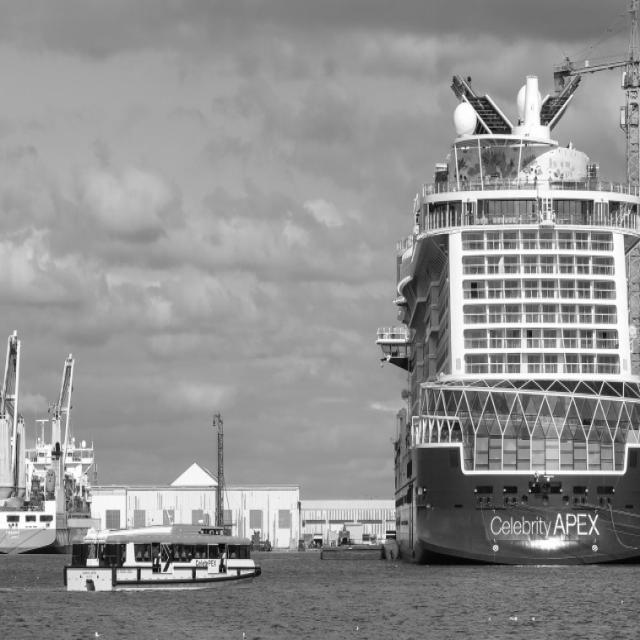cruises: (378, 73, 640, 569)
